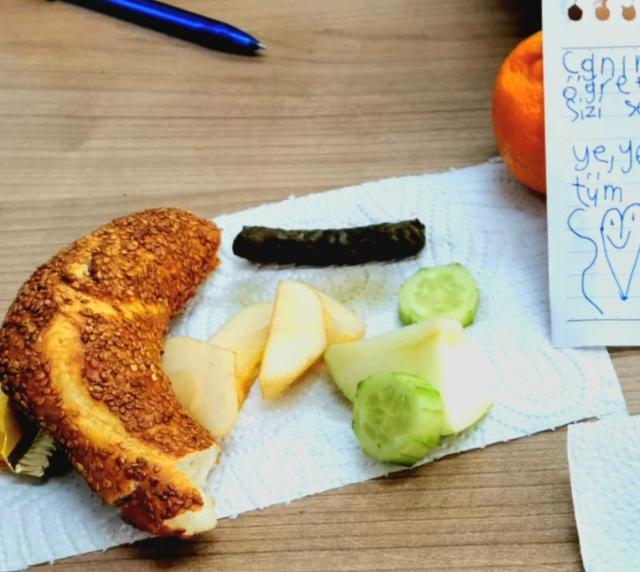Kagit: (540, 0, 640, 363)
Organik: (0, 188, 244, 552), (208, 262, 524, 493), (224, 209, 446, 271)
Plastik: (0, 1, 273, 62)
